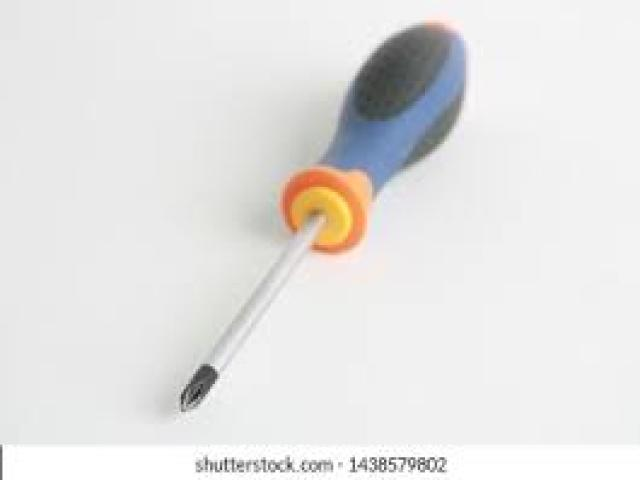Screwdriver: (181, 24, 465, 410)
